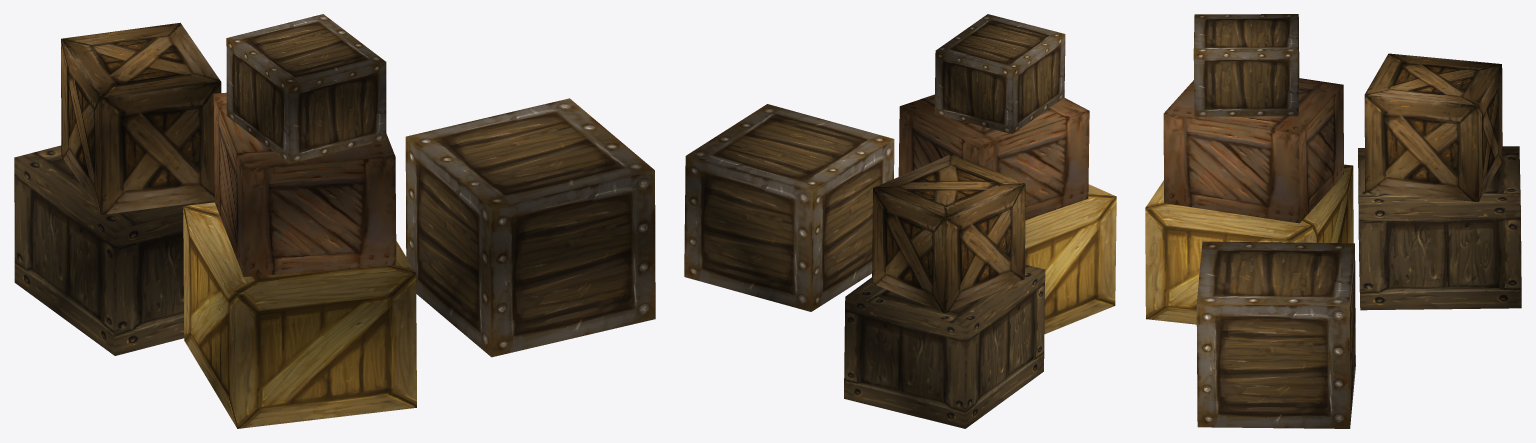
File: deadminecargoboxes.obj
3 views of the same model, side by side, from view 1: azimuth 30°, elevation 25°; view 2: azimuth 150°, elevation 25°; view 3: azimuth 270°, elevation 25° (orthographic). The views are drawn at different scales.
Visible parts, largest first — view 1: DEADMINECARGOBOXES2, DEADMINECARGOBOXES3, DEADMINECARGOBOXES1, DEADMINECARGOBOXES0, DEADMINECARGOBOXES4; view 2: DEADMINECARGOBOXES2, DEADMINECARGOBOXES0, DEADMINECARGOBOXES1, DEADMINECARGOBOXES4, DEADMINECARGOBOXES3; view 3: DEADMINECARGOBOXES2, DEADMINECARGOBOXES0, DEADMINECARGOBOXES4, DEADMINECARGOBOXES1, DEADMINECARGOBOXES3.
Part boxes in pixels (x1=…): DEADMINECARGOBOXES2: x1=226, y1=14, x2=655, y2=357; DEADMINECARGOBOXES3: x1=183, y1=202, x2=416, y2=428; DEADMINECARGOBOXES1: x1=61, y1=22, x2=221, y2=214; DEADMINECARGOBOXES0: x1=14, y1=145, x2=214, y2=355; DEADMINECARGOBOXES4: x1=213, y1=92, x2=396, y2=276; DEADMINECARGOBOXES2: x1=684, y1=14, x2=1065, y2=311; DEADMINECARGOBOXES0: x1=844, y1=264, x2=1045, y2=428; DEADMINECARGOBOXES1: x1=872, y1=153, x2=1025, y2=313; DEADMINECARGOBOXES4: x1=898, y1=94, x2=1089, y2=219; DEADMINECARGOBOXES3: x1=1025, y1=184, x2=1116, y2=334; DEADMINECARGOBOXES2: x1=1193, y1=14, x2=1355, y2=428; DEADMINECARGOBOXES0: x1=1358, y1=146, x2=1521, y2=310; DEADMINECARGOBOXES4: x1=1163, y1=78, x2=1343, y2=223; DEADMINECARGOBOXES1: x1=1364, y1=53, x2=1502, y2=201; DEADMINECARGOBOXES3: x1=1145, y1=164, x2=1353, y2=324.
Size of the model in its own units: 2.57 by 1.78 by 2.26.
Materials: 5 (5 with a texture image).
